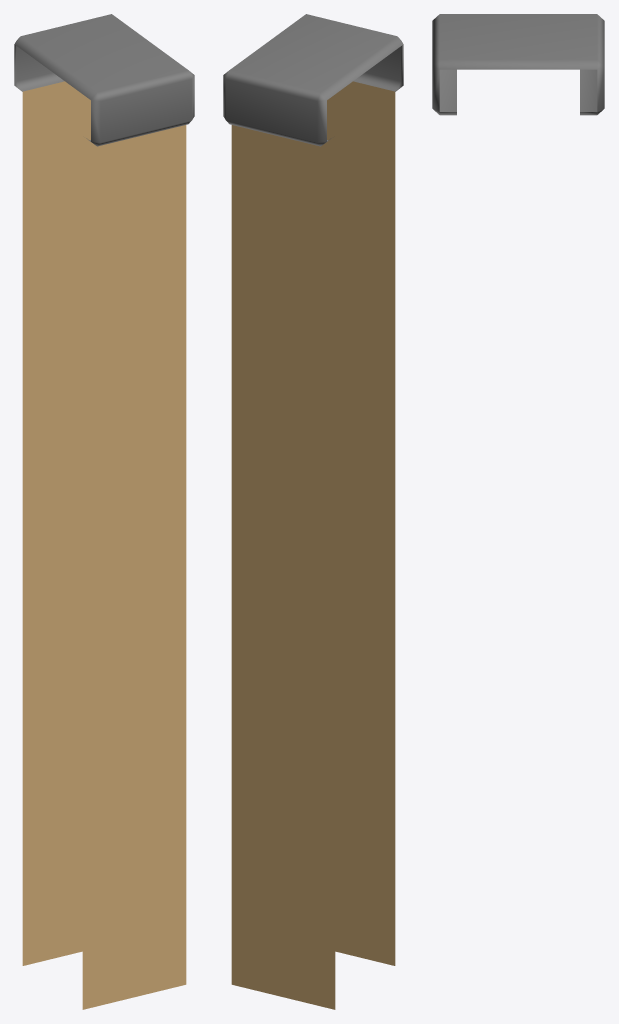
The model's file is SM_Wall_1x8_LOD0.fbx.
The picture shows the model from 3 angles, left to right: view 1: azimuth 30°, elevation 25°; view 2: azimuth 150°, elevation 25°; view 3: azimuth 270°, elevation 25°; orthographic projection. The views are drawn at different scales.
Parts seen in each view (by area): view 1: SM_Wall_1x8_LOD0; view 2: SM_Wall_1x8_LOD0; view 3: SM_Wall_1x8_LOD0.
Part boxes in pixels (left/top/right/bottom): SM_Wall_1x8_LOD0: left=14, top=14, right=194, bottom=1009; SM_Wall_1x8_LOD0: left=223, top=14, right=403, bottom=1009; SM_Wall_1x8_LOD0: left=432, top=14, right=604, bottom=115.
Bounding box in the file's own units: 1 × 8.5 × 1.4.
